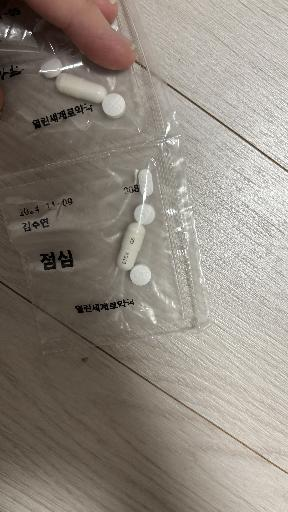Bacilliformis: (55, 72, 107, 103), (117, 222, 145, 270), (47, 28, 58, 34)
Lapabutine: (102, 93, 126, 119), (130, 264, 151, 286)
Tiparone: (134, 204, 155, 225), (40, 58, 62, 78)
gamod: (138, 170, 153, 196)
vinyl: (0, 0, 210, 350)
